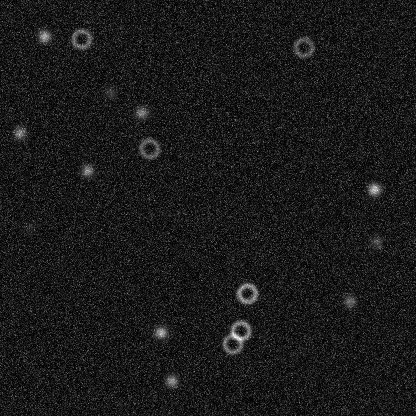Ring: (235, 281, 259, 305), (291, 35, 315, 59), (228, 318, 252, 342), (220, 331, 244, 355), (69, 26, 93, 50), (137, 136, 161, 160)
Spot: (102, 84, 118, 100), (366, 181, 382, 197), (163, 372, 179, 388), (79, 162, 95, 178), (133, 104, 149, 120), (11, 124, 27, 140), (36, 28, 52, 44), (341, 293, 357, 309), (152, 324, 168, 340), (20, 219, 36, 235), (368, 233, 384, 249)
